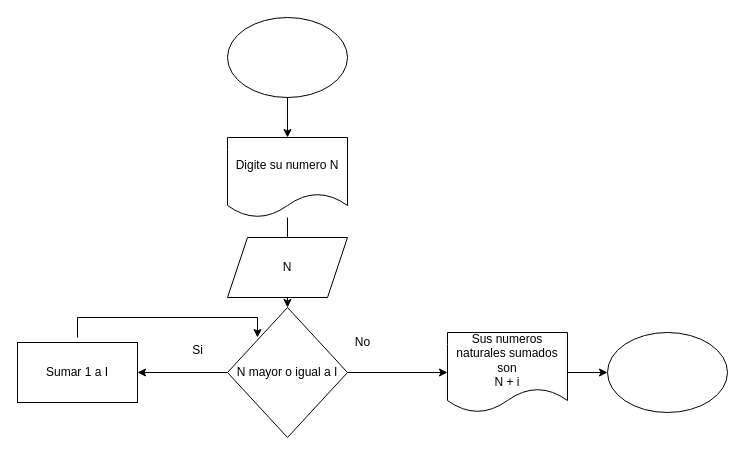
The diagram is 745 pixels wide and 455 high, and some of its shapes have lost their labels. The shapes that lost their labels are listed below. From the top down, each one's centre as x and y in pixels, then its label:
At point 287,57: "Inicio".
At point 667,372: "Fin".
